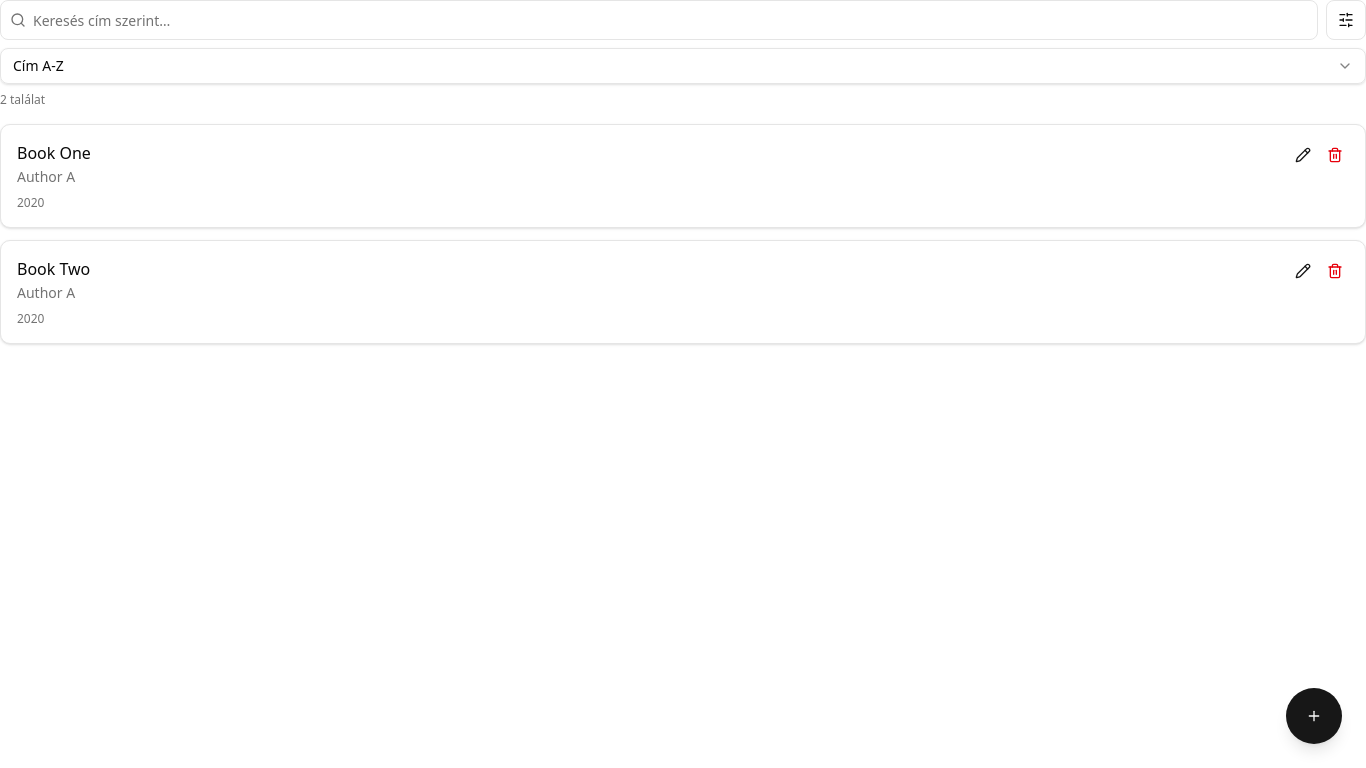
BookCardView — mutation refresh strategy › replaces the edited card in place after a successful edit, without refetching the list
The width and height of the screenshot is (1366, 768).
Expected: the text "Book One" is shown, [17,141,91,165]
Click the 1st button named "Szerkesztés" at (1303, 155), box [1289,141,1317,169]
(page scrolled)
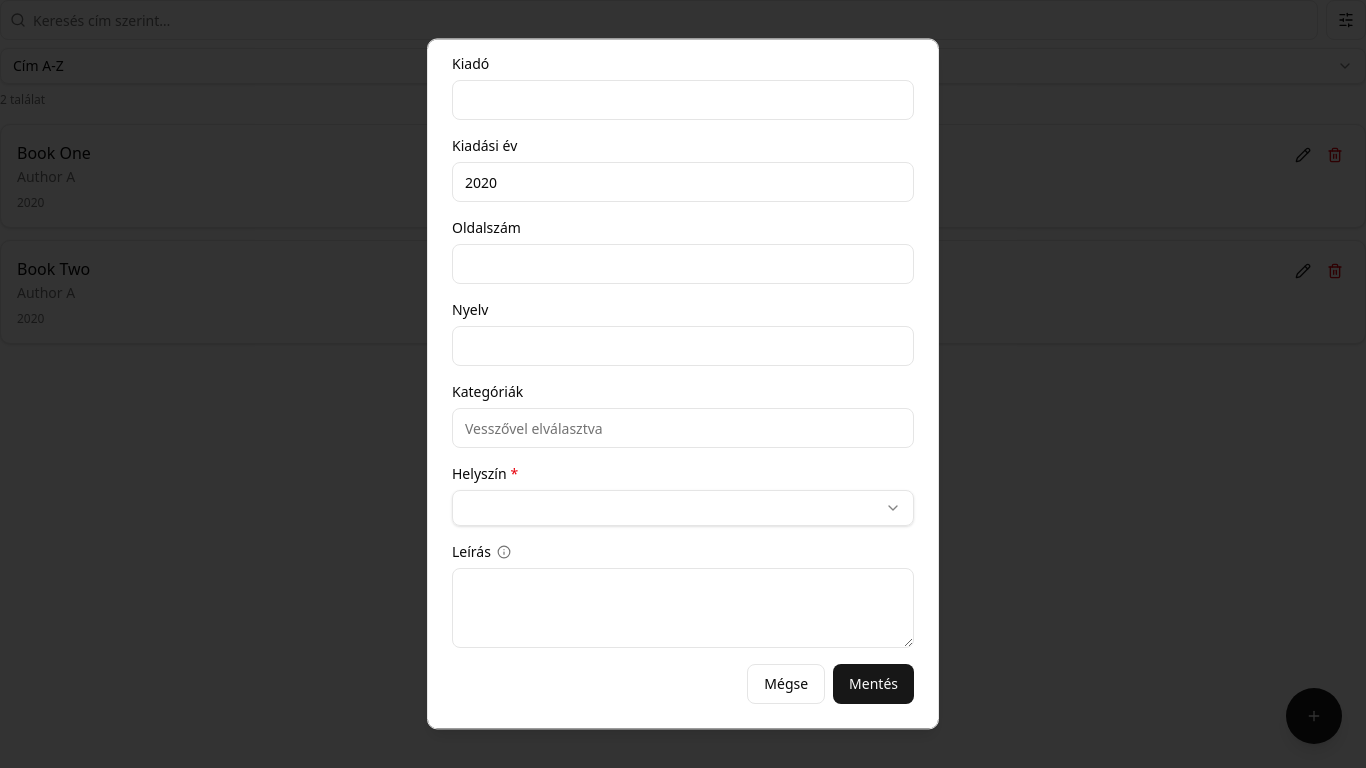
Click the button "Mentés" at (874, 684), box [833,664,914,704]
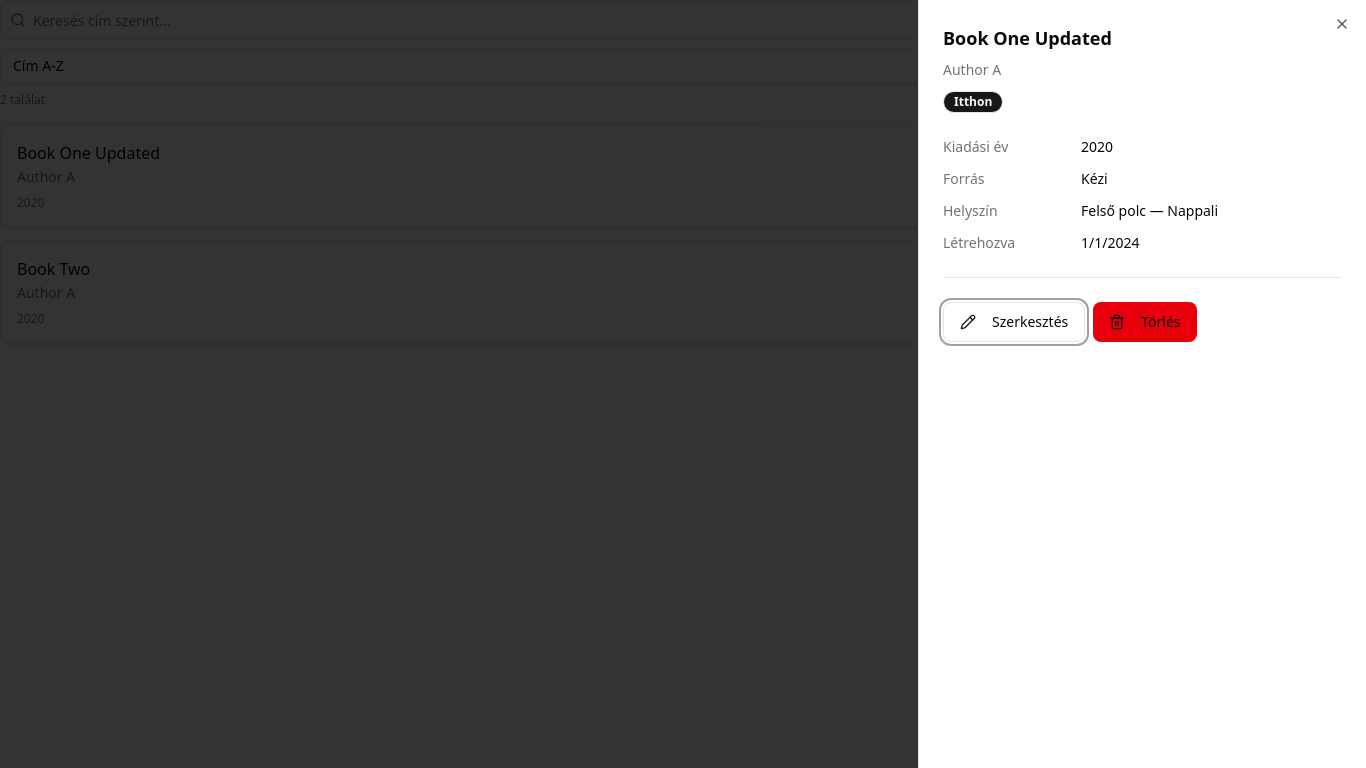
Expected: the text "Book Two" is shown, [17,257,90,281]
Expected: the text "Book One Updated" is shown, [17,141,160,165]
